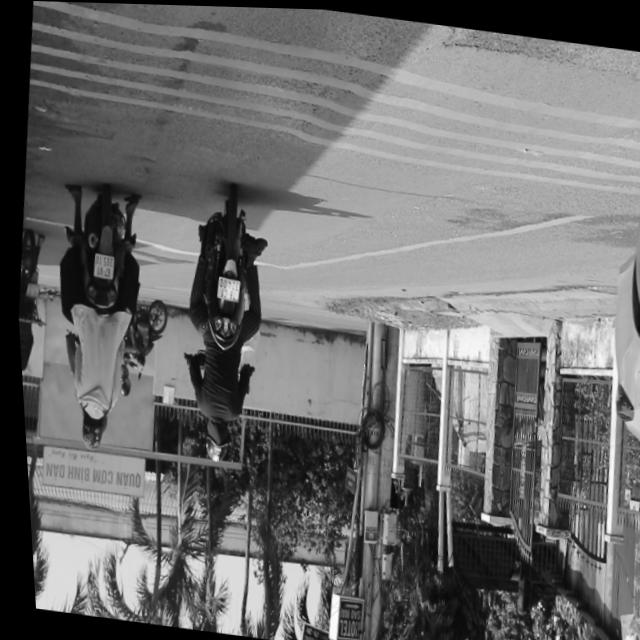helmet: (196, 418, 226, 461), (72, 411, 100, 451)
licenseplate: (31, 178, 155, 457), (160, 182, 280, 468)
nohelmet: (212, 276, 236, 300), (88, 253, 111, 278)
